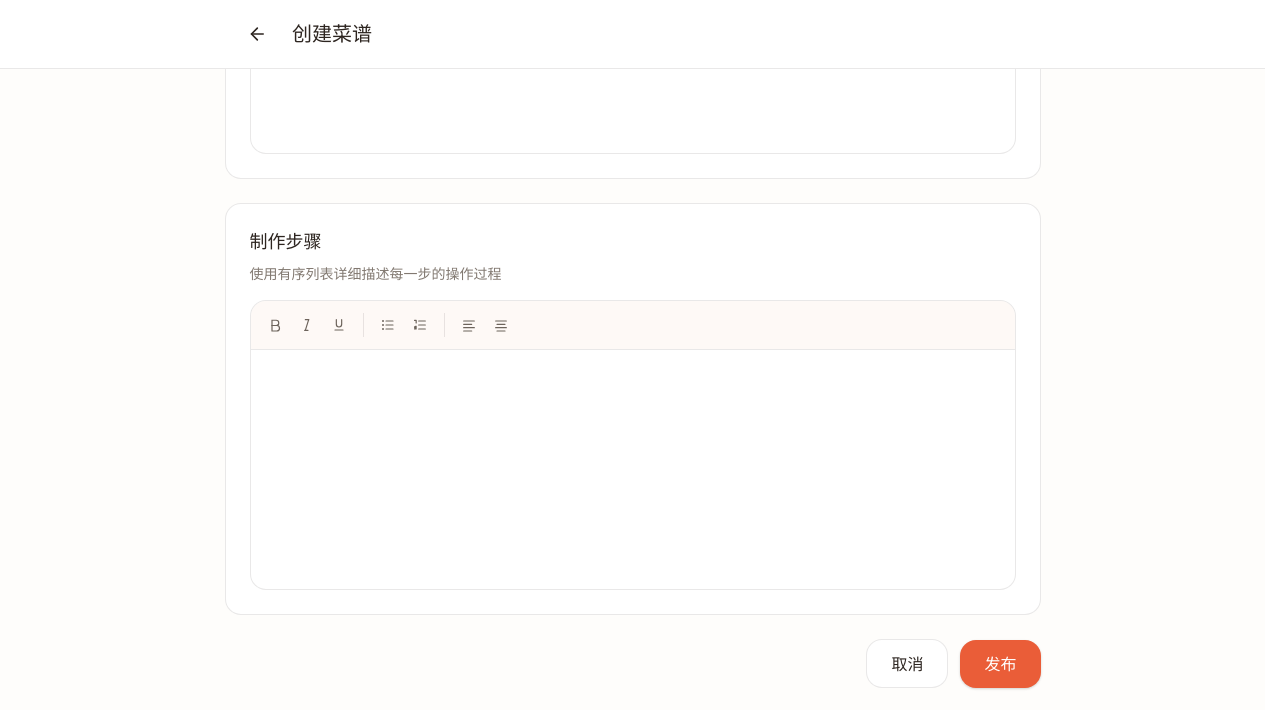
Test case: CreateRecipePage › shows a local validation error when title is empty and does not submit
(page scrolled)
Click the button "发布".
click(1000, 664)  # box [960,640,1040,688]
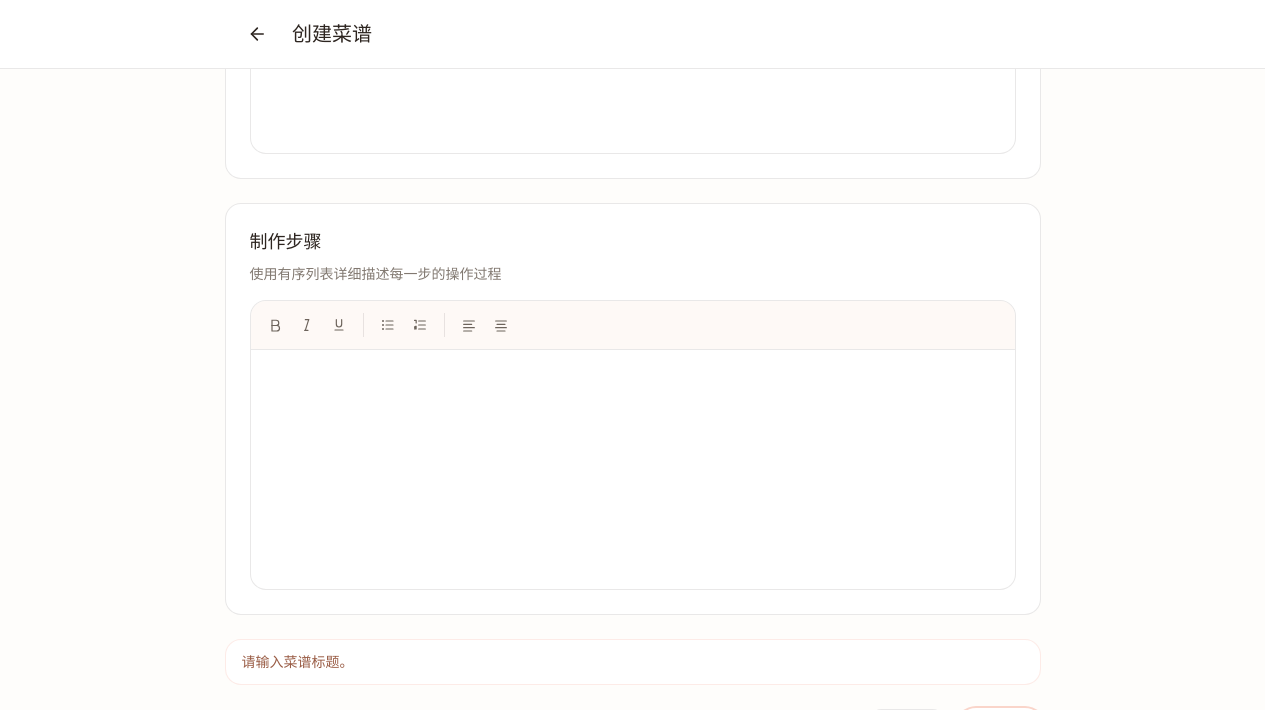
Check: the text "请输入菜谱标题。" is shown, box [224,639,1040,685]
